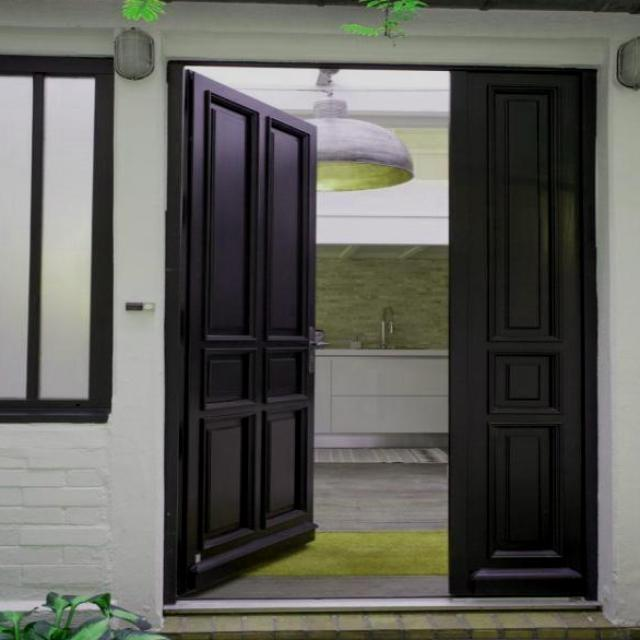door: (176, 69, 317, 596)
